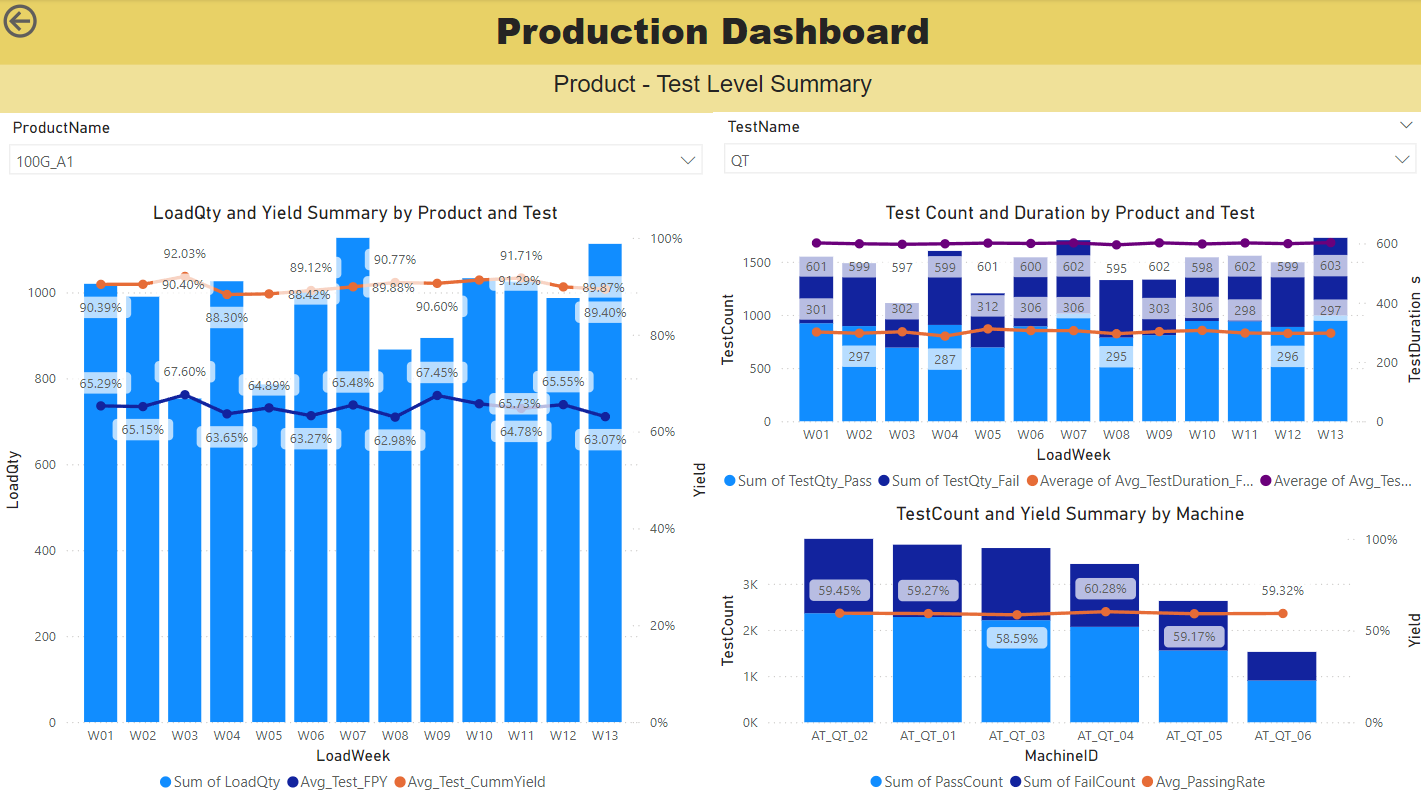

What the dashboard file says about the page in this screenshot:
{"tool":"powerbi","page":{"name":"Product Test Summary","canvas":[1280,720],"ordinal":3},"visuals":[{"type":"lineClusteredColumnComboChart","title":"LoadQty and Yield Summary by Product and Test","fields":{"Category":["dbo summary_prod_test.LoadWeek"],"Y":["Sum(dbo summary_prod_test.LoadQty)"],"Y2":["dbo summary_prod_test.Avg_Test_FPY","dbo summary_prod_test.Avg_Test_CummYield"]},"box":[0,180.8,640,538.9],"z":0},{"type":"textbox","box":[0,0,1280,59.4],"z":1000},{"type":"textbox","box":[0,59.4,1280,42.5],"z":2000},{"type":"slicer","fields":{"Values":["dbo summary_prod_test.TestName"]},"box":[639.9,101.6,639.9,79.2],"z":3000},{"type":"lineStackedColumnComboChart","title":"Test Count and Duration by Product and Test","fields":{"Category":["dbo summary_prod_test.LoadWeek"],"Y2":["Avg(dbo summary_prod_test.Avg_TestDuration_Fail_s)","Avg(dbo summary_prod_test.Avg_TestDuration_Pass_s)"],"Y":["Sum(dbo summary_prod_test.TestQty_Pass)","Sum(dbo summary_prod_test.TestQty_Fail)"]},"box":[639.9,180.9,639.9,269.6],"z":4000},{"type":"slicer","fields":{"Values":["dbo summary_prod.ProductName"]},"box":[0,102.4,640.5,79],"z":5000},{"type":"actionButton","box":[0,0,41.3,39.6],"z":6000},{"type":"lineStackedColumnComboChart","title":"TestCount and Yield Summary by Machine","fields":{"Category":["dbo summary_machine.MachineID"],"Y":["Sum(dbo summary_machine.PassCount)","Sum(dbo summary_machine.FailCount)"],"Y2":["dbo summary_machine.Avg_PassingRate"]},"box":[639.9,450.4,639.9,269.6],"z":7000}]}

Visuals, with their boxes in screenshot pixels (x1, y1, x2, y2), scaled from the page's 1280x720 canvas onto the 1421x802 screenshot:
"LoadQty and Yield Summary by Product and Test" lineClusteredColumnComboChart: rect(0, 201, 710, 801)
textbox: rect(0, 0, 1420, 66)
textbox: rect(0, 66, 1420, 114)
slicer - dbo summary_prod_test.TestName: rect(710, 113, 1420, 201)
"Test Count and Duration by Product and Test" lineStackedColumnComboChart: rect(710, 202, 1420, 502)
slicer - dbo summary_prod.ProductName: rect(0, 114, 711, 202)
actionButton: rect(0, 0, 46, 44)
"TestCount and Yield Summary by Machine" lineStackedColumnComboChart: rect(710, 502, 1420, 801)
